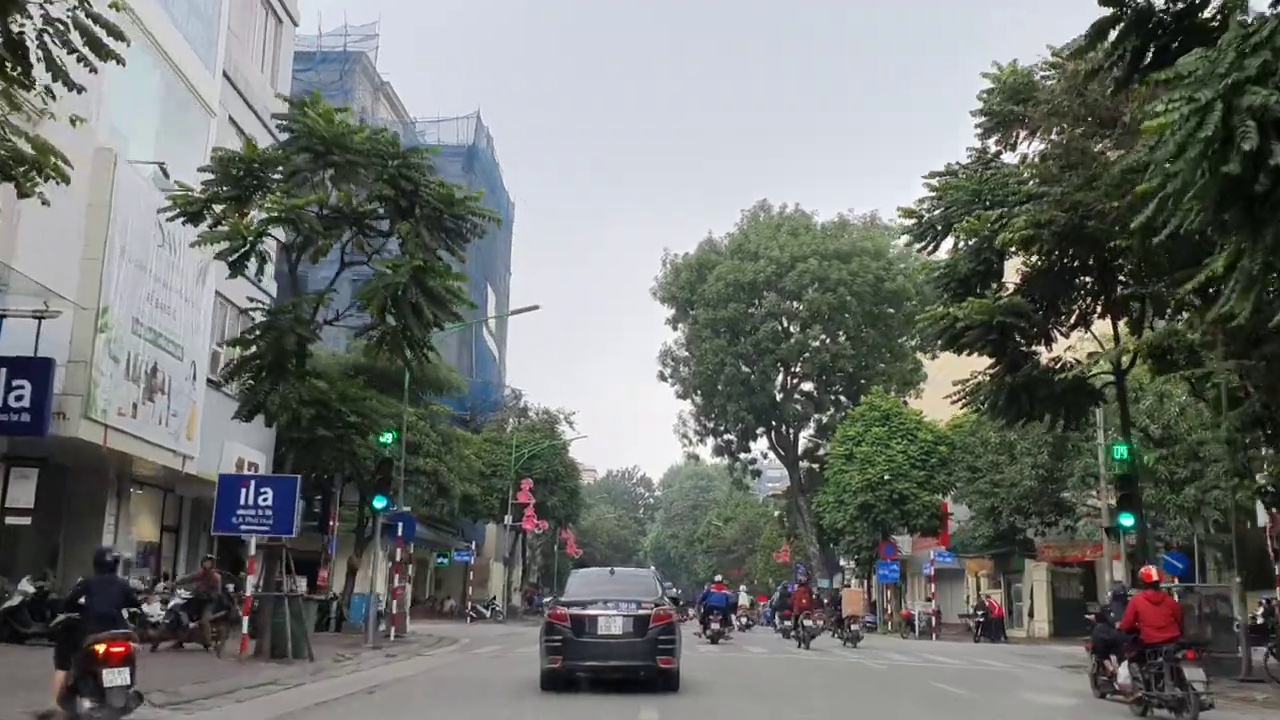person: (98, 667, 131, 686), (1181, 667, 1207, 682)
